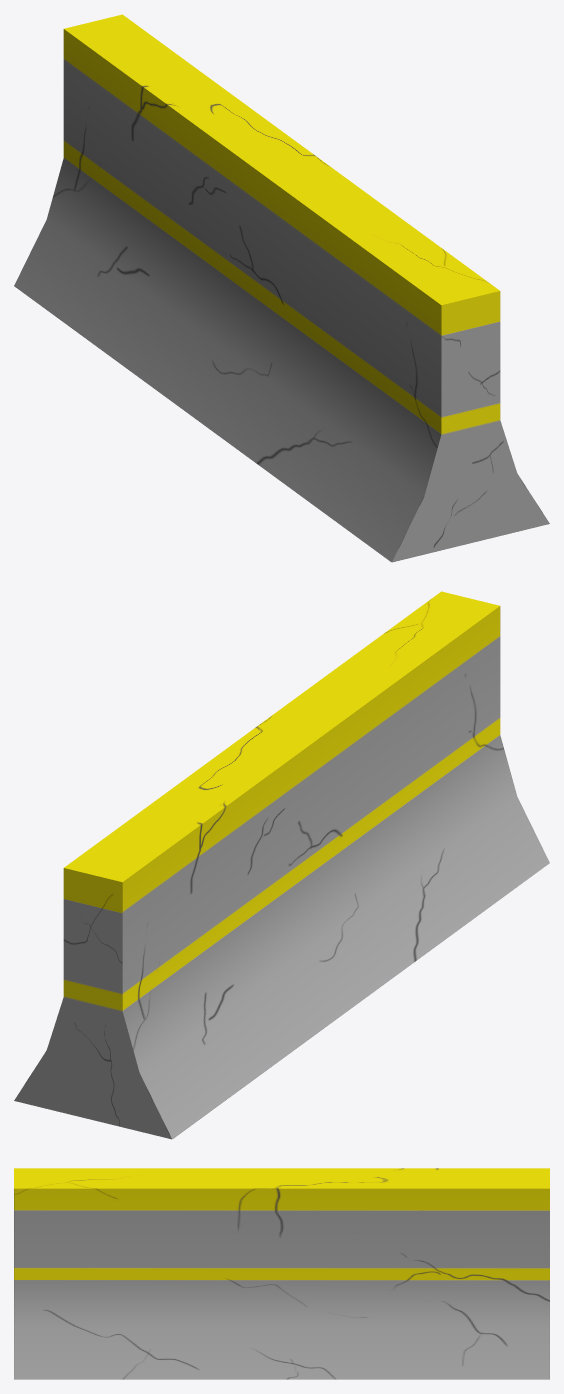
File: concrete.fbx
3 renders of one model, top to bottom at view 1: azimuth 30°, elevation 25°; view 2: azimuth 150°, elevation 25°; view 3: azimuth 270°, elevation 25°, orthographic. The views are drawn at different scales.
Visible parts, largest first — view 1: pCube7; view 2: pCube7; view 3: pCube7.
Boxes of the visible parts, box(x1,y1,x2,y2) form: pCube7: box(14, 14, 549, 562); pCube7: box(14, 591, 549, 1139); pCube7: box(14, 1168, 549, 1379).
Bounding box in the file's own units: 1.41 × 2.09 × 5.82.
Materials: 1 (1 with a texture image).
